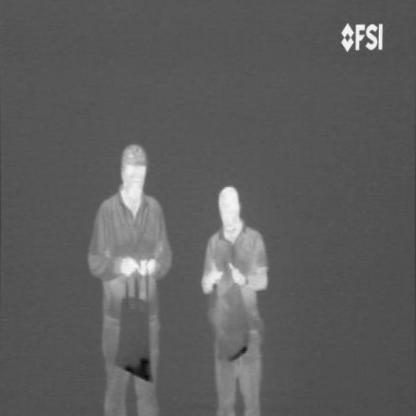weapon: (121, 349, 153, 388)
